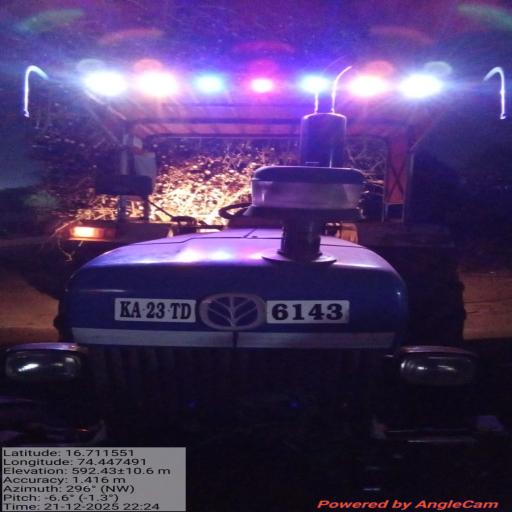number_plate: (112, 292, 353, 333)
